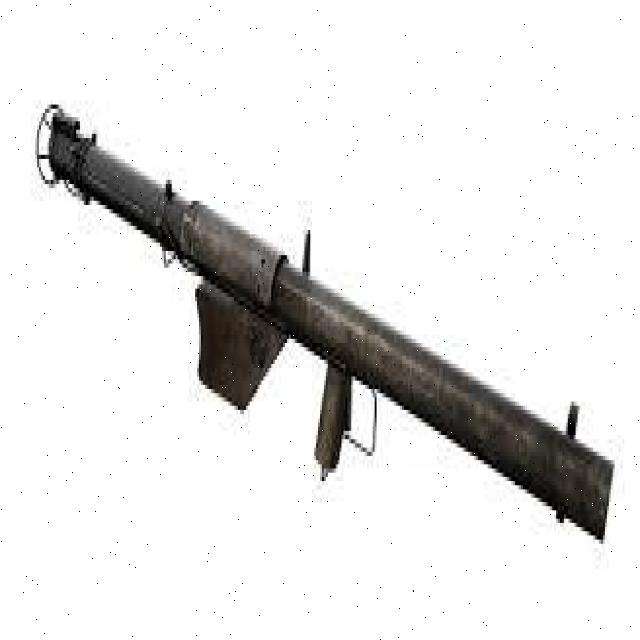bazooka: (33, 97, 619, 548)
